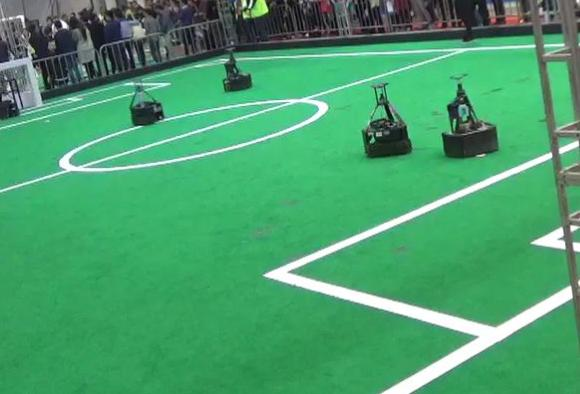robot: (437, 69, 502, 159), (359, 82, 415, 161), (126, 74, 165, 127), (217, 46, 254, 93)
